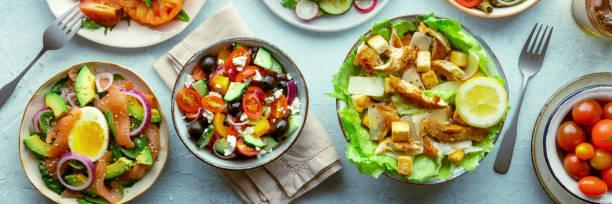Braised Crucian Carp: (335, 11, 507, 185), (17, 61, 168, 204), (169, 36, 304, 172)
